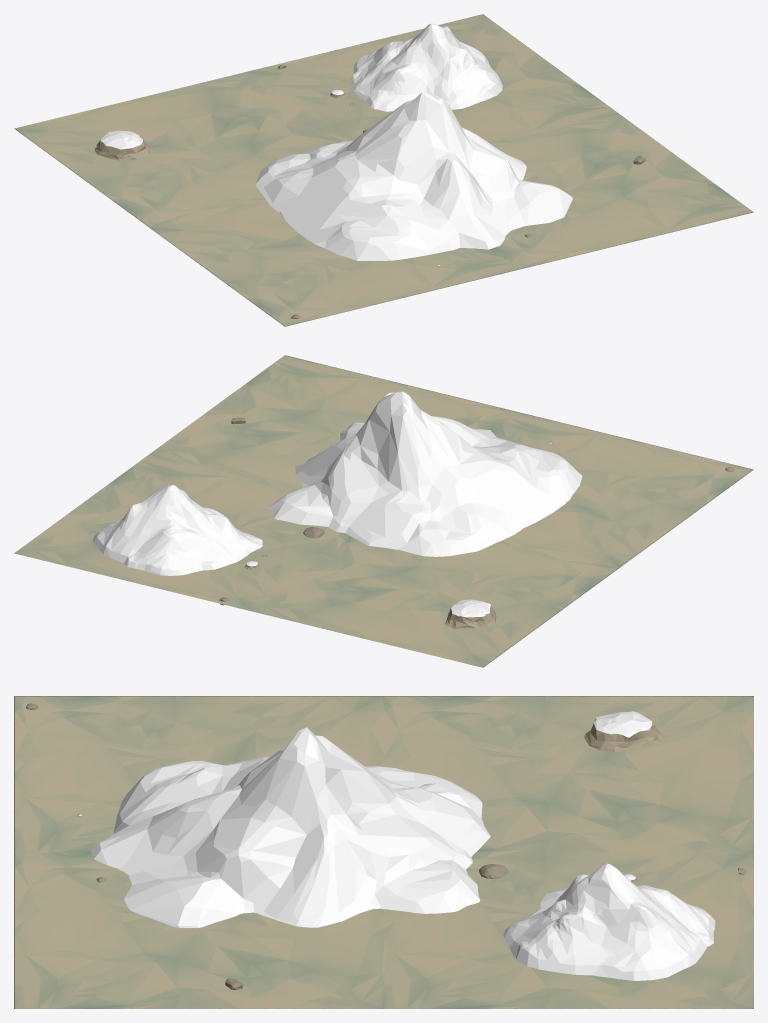
Rendered from Snow_Steppable.fbx.
The picture shows the model from 3 angles, top to bottom: view 1: azimuth 30°, elevation 25°; view 2: azimuth 150°, elevation 25°; view 3: azimuth 270°, elevation 25°; orthographic projection. The views are drawn at different scales.
Visible parts, largest first — view 1: Plane003, test; view 2: Plane003, test; view 3: Plane003, test, PolygonNature_01.
Part boxes in pixels (x1=…): Plane003: x1=14, y1=14, x2=753, y2=326; test: x1=95, y1=23, x2=572, y2=260; Plane003: x1=14, y1=355, x2=753, y2=667; test: x1=93, y1=391, x2=582, y2=629; Plane003: x1=14, y1=696, x2=753, y2=1008; test: x1=91, y1=711, x2=715, y2=980; PolygonNature_01: x1=26, y1=703, x2=746, y2=989.
Bounding box in the file's own units: 100 × 22.88 × 100.
Materials: 3 (3 with a texture image).
